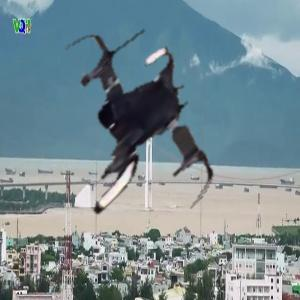drone: (14, 22, 234, 242)
